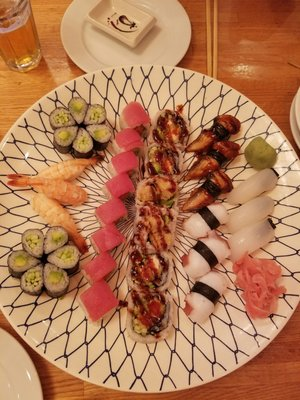pizza: (0, 0, 42, 73)
